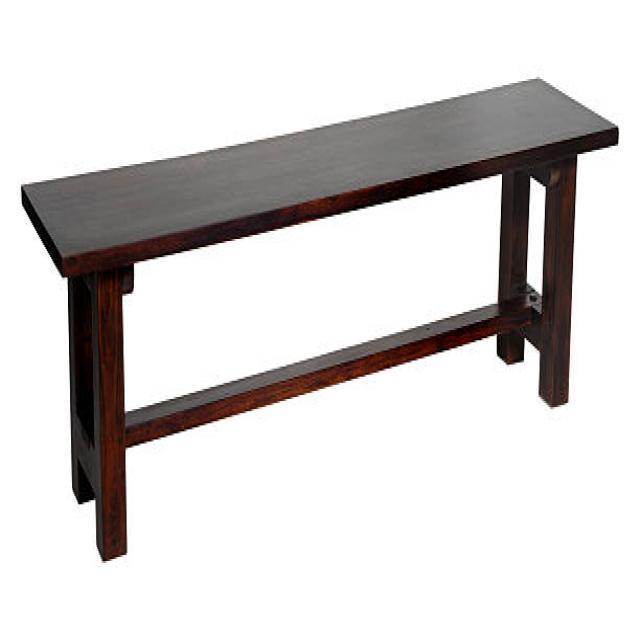table: (20, 73, 619, 561)
